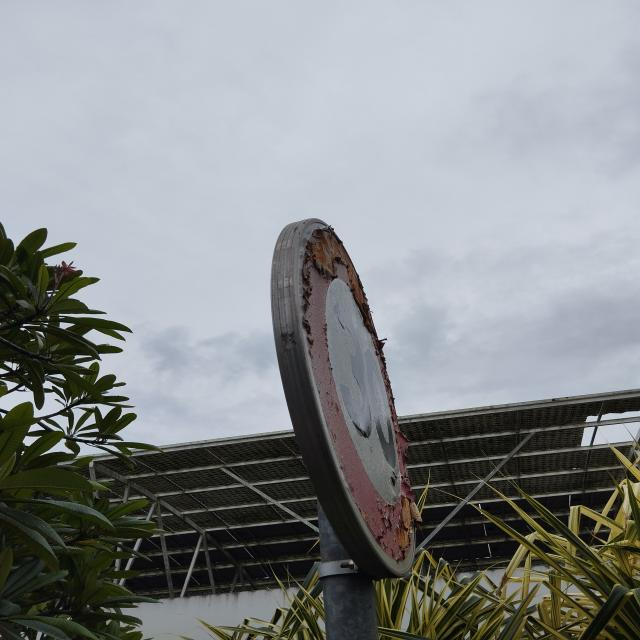Limite-30: (273, 212, 416, 576)
